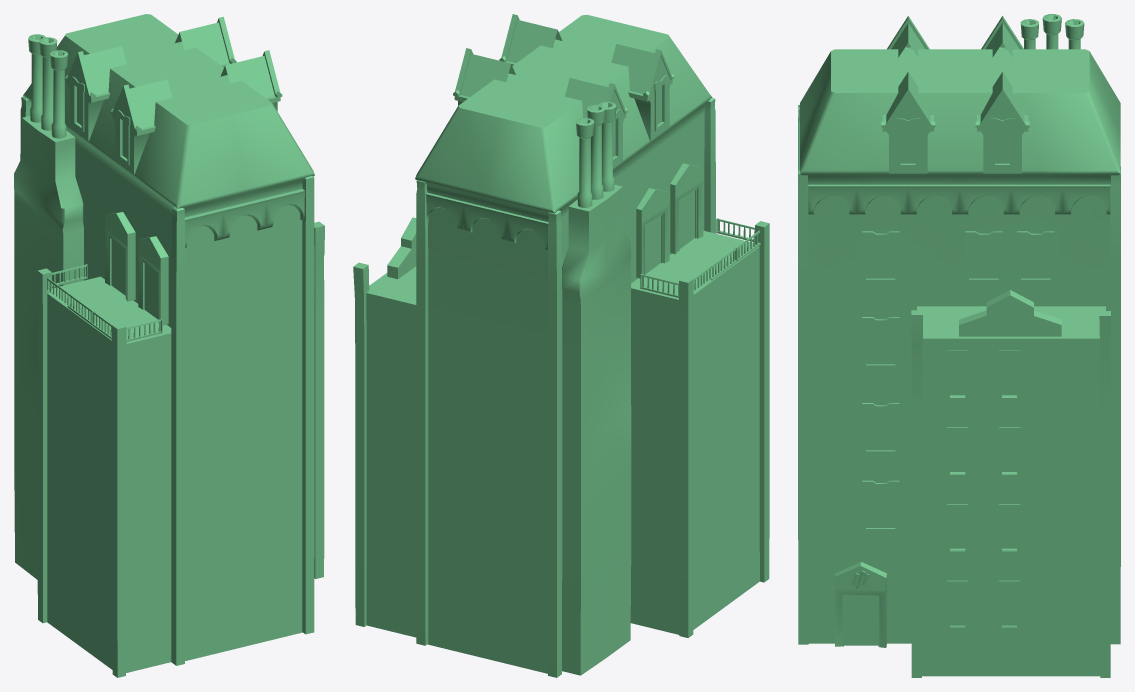
File: Bgr_Building13.fbx
3 views of the same model, side by side, from view 1: azimuth 30°, elevation 25°; view 2: azimuth 150°, elevation 25°; view 3: azimuth 270°, elevation 25° (orthographic). The views are drawn at different scales.
Parts seen in each view (by area): view 1: Bgr_Building13; view 2: Bgr_Building13; view 3: Bgr_Building13.
Boxes of the visible parts, x1,y1,x2,y2 form: Bgr_Building13: [14, 14, 324, 677]; Bgr_Building13: [353, 14, 769, 677]; Bgr_Building13: [798, 14, 1120, 677].
Bounding box in the file's own units: 1816 × 3607 × 1883.
